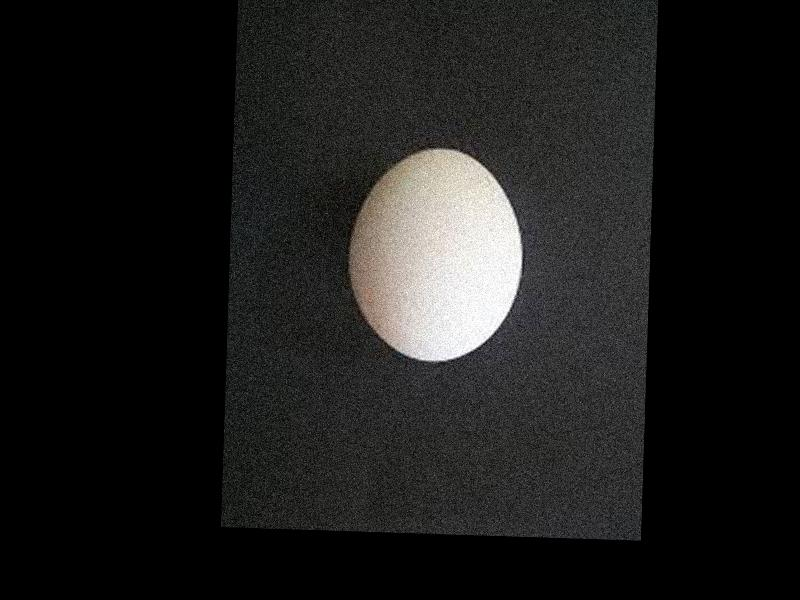Eggs: (347, 143, 525, 358)
